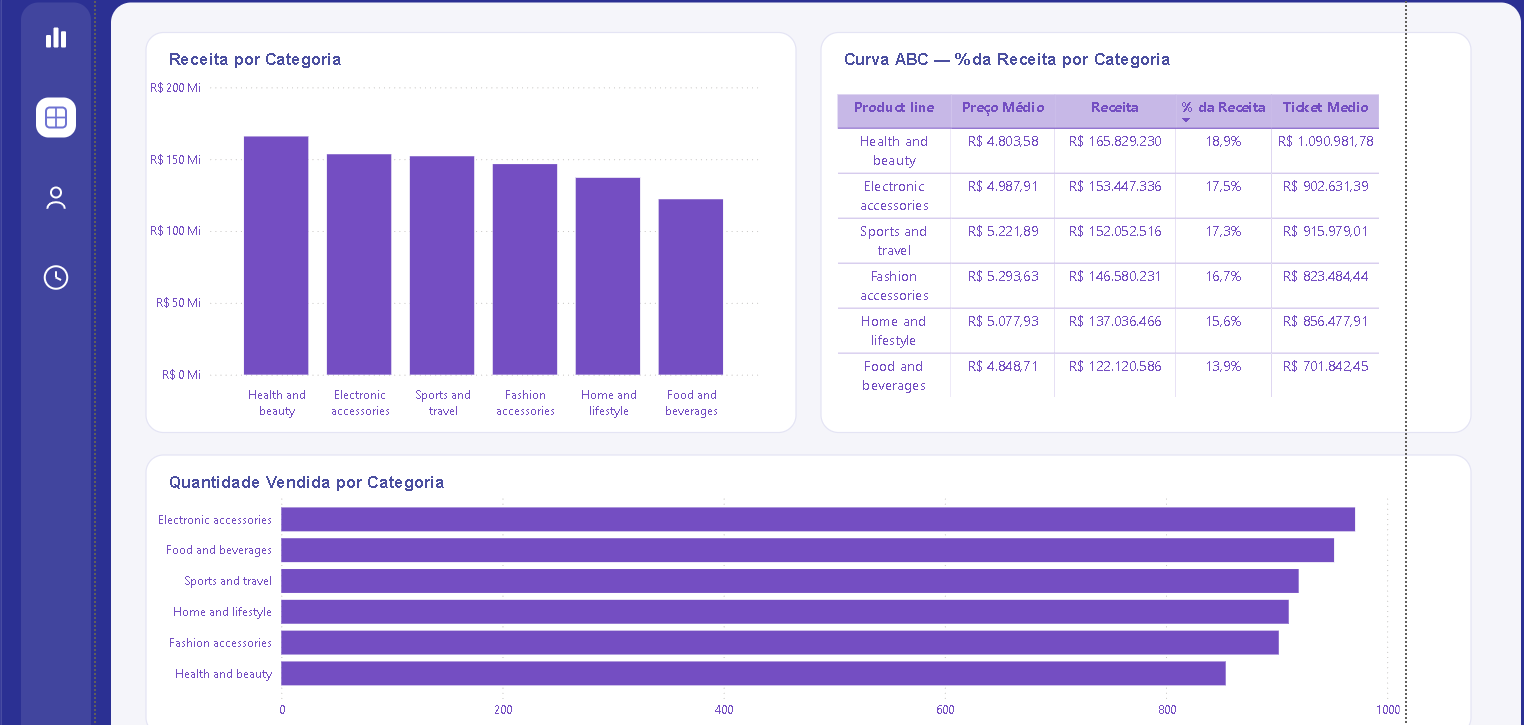

The page's visual inventory and layout, read from the dashboard file:
{"tool":"powerbi","page":{"name":"Produtos","canvas":[1280,720],"ordinal":1},"visuals":[{"type":"clusteredColumnChart","fields":{"Category":["SuperMarket Analysis.Product line"],"Y":["Sum(SuperMarket Analysis.Sales)"]},"box":[46.5,79.5,606.5,346.1],"z":0},{"type":"tableEx","fields":{"Values":["SuperMarket Analysis.Product line","Avg(SuperMarket Analysis.Unit price)","Sum(SuperMarket Analysis.Sales)","Divide(Sum(SuperMarket Analysis.Sales), ScopedEval(Sum(SuperMarket Analysis.Sales), []))","SuperMarket Analysis.Ticket Medio"]},"box":[719,95.4,552.7,330.2],"z":1000},{"type":"clusteredBarChart","fields":{"Category":["SuperMarket Analysis.Product line"],"Y":["Sum(SuperMarket Analysis.Quantity)"]},"box":[46.5,479.4,1233.8,240.9],"z":2000}]}

Visuals, with their boxes on the page's 1280x720 design canvas (x1, y1, x2, y2). These are canvas units, not pixel positions in the 1524x725 screenshot, which may show the page scaled, cropped or inside an application window:
clusteredColumnChart - SuperMarket Analysis.Product line x Sum(SuperMarket Analysis.Sales): box(46, 80, 653, 426)
tableEx - SuperMarket Analysis.Product line x Avg(SuperMarket Analysis.Unit price): box(719, 95, 1272, 426)
clusteredBarChart - SuperMarket Analysis.Product line x Sum(SuperMarket Analysis.Quantity): box(46, 479, 1280, 720)
